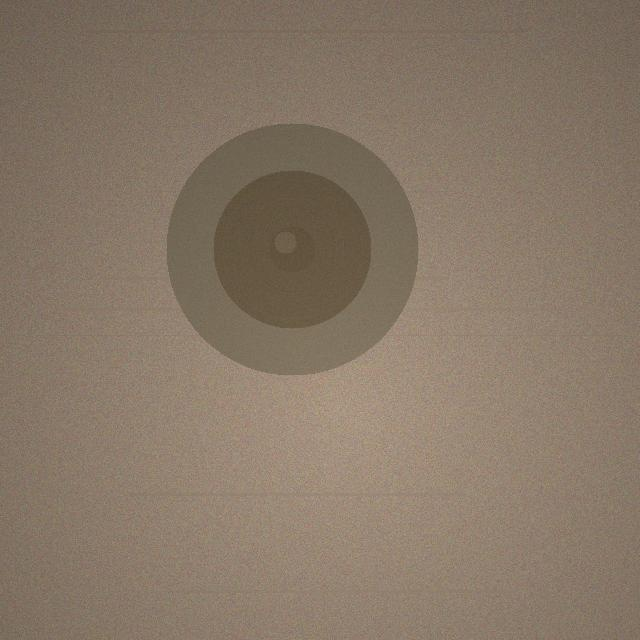good: (166, 123, 418, 375)
